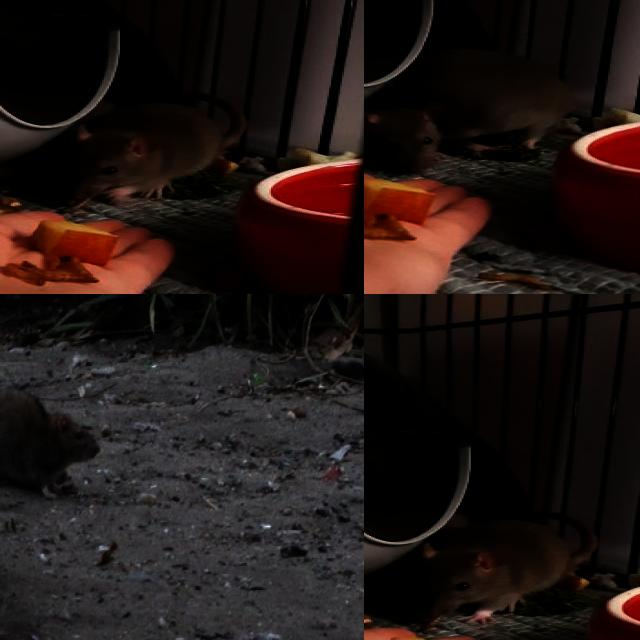rat: (417, 519, 576, 625), (67, 101, 228, 203), (0, 384, 102, 492), (364, 94, 448, 172)
